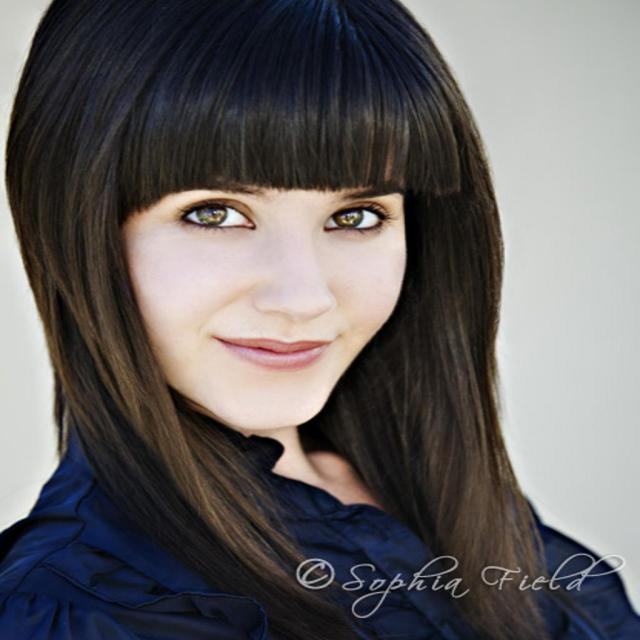nomask: (115, 130, 406, 429)
